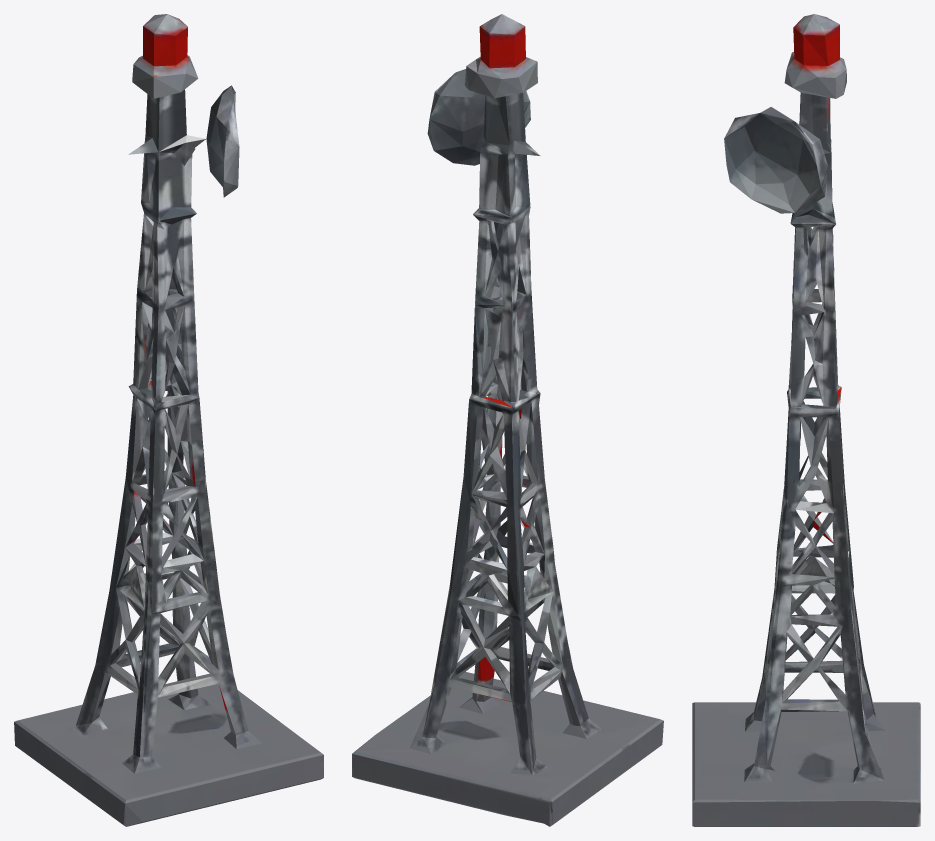
The model's file is mast.glb.
3 views of the same model, side by side, from view 1: azimuth 30°, elevation 25°; view 2: azimuth 150°, elevation 25°; view 3: azimuth 270°, elevation 25° (orthographic). The views are drawn at different scales.
Parts seen in each view (by area): view 1: figure; view 2: figure; view 3: figure.
Part boxes in pixels (left/top/right/bottom): figure: left=14, top=14, right=323, bottom=826; figure: left=352, top=14, right=663, bottom=826; figure: left=692, top=14, right=920, bottom=826.
Bounding box in the file's own units: 0.279 × 1 × 0.2703.
1 material, 1 textured.
